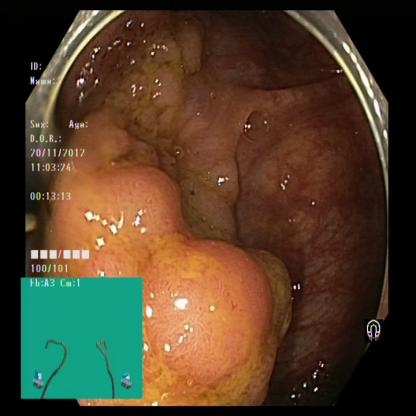Labels: (27, 57, 101, 279), (20, 278, 144, 400), (356, 309, 388, 349)
Polyps: (143, 228, 268, 374), (112, 135, 178, 220)
